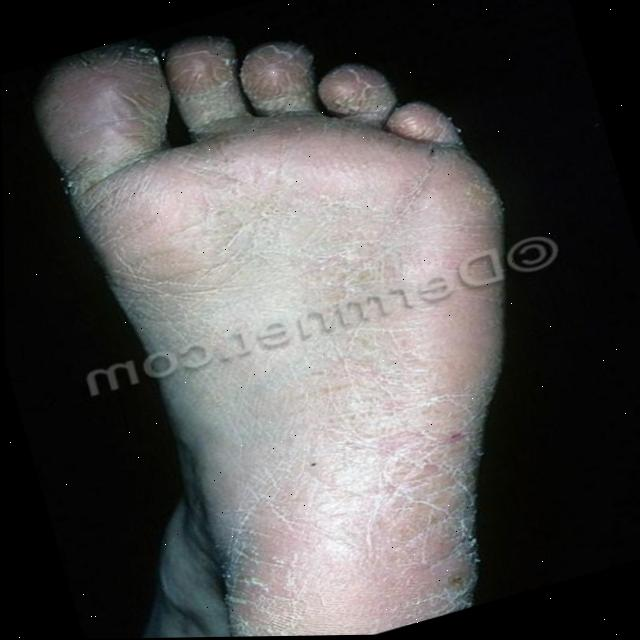Eczema: (91, 0, 600, 639)
